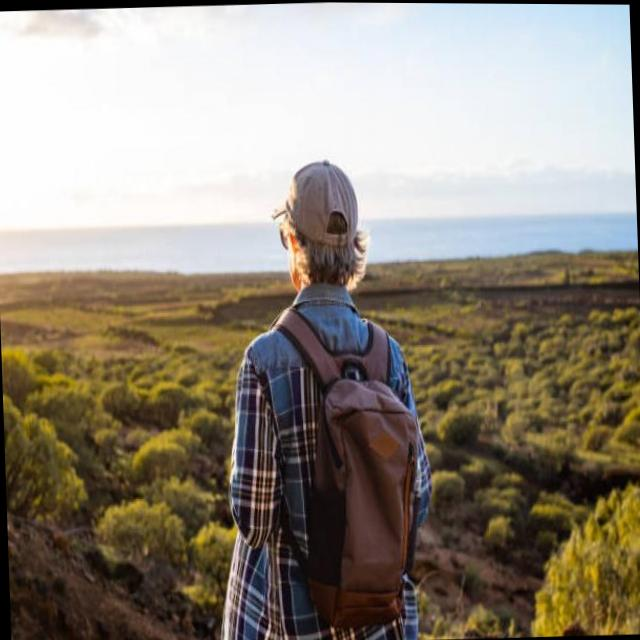no helmet: (258, 140, 378, 313)
